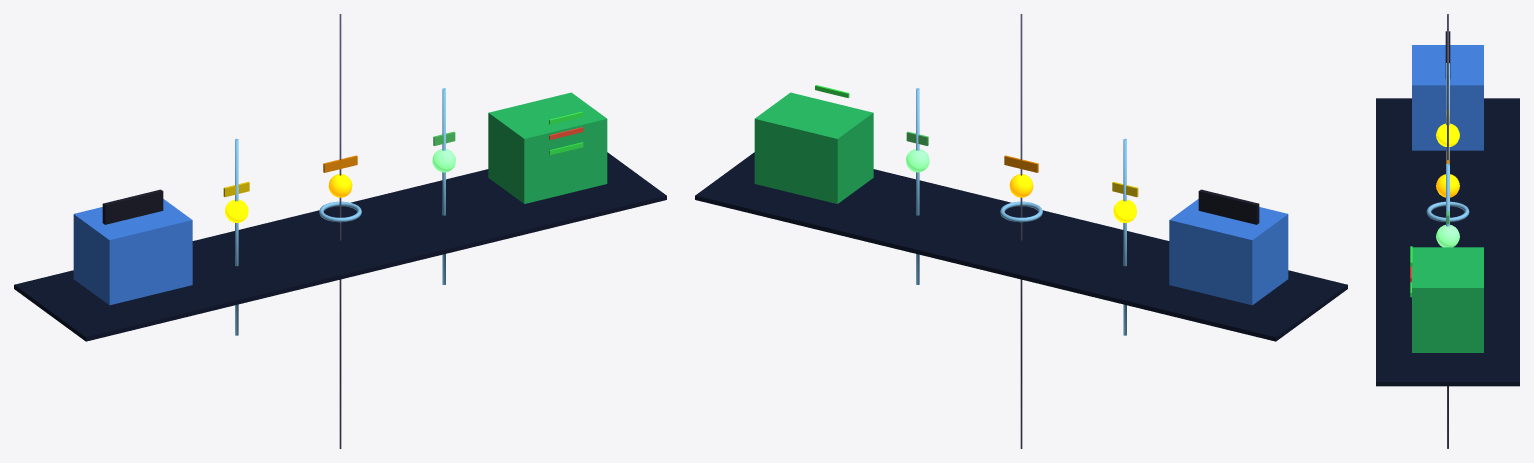
The model's file is handshake_blinded.glb.
The picture shows the model from 3 angles, left to right: view 1: azimuth 30°, elevation 25°; view 2: azimuth 150°, elevation 25°; view 3: azimuth 270°, elevation 25°; orthographic projection.
Visible parts, largest first — view 1: Platform, Servidor, Cliente, ClientScreen, Cable; view 2: Platform, Servidor, Cliente, ClientScreen, Cable; view 3: Platform, Servidor, Cliente, ACK, EstablishedRing, Cable, SYN, SYNACK, EstablishedRight, ClientScreen, EstablishedLeft.
Part boxes in pixels (x1=…): Platform: x1=14, y1=152, x2=666, y2=341; Servidor: x1=488, y1=92, x2=607, y2=203; Cliente: x1=73, y1=199, x2=192, y2=305; ClientScreen: x1=102, y1=189, x2=163, y2=224; Cable: x1=339, y1=14, x2=341, y2=448; Platform: x1=695, y1=152, x2=1347, y2=341; Servidor: x1=754, y1=92, x2=873, y2=203; Cliente: x1=1169, y1=199, x2=1288, y2=305; ClientScreen: x1=1198, y1=189, x2=1259, y2=224; Cable: x1=1020, y1=14, x2=1022, y2=448; Platform: x1=1376, y1=98, x2=1519, y2=386; Servidor: x1=1412, y1=247, x2=1483, y2=352; Cliente: x1=1412, y1=45, x2=1483, y2=150; ACK: x1=1436, y1=225, x2=1459, y2=247; EstablishedRing: x1=1426, y1=201, x2=1469, y2=222; Cable: x1=1447, y1=14, x2=1448, y2=448; SYN: x1=1436, y1=123, x2=1459, y2=146; SYNACK: x1=1436, y1=174, x2=1459, y2=197; EstablishedRight: x1=1446, y1=164, x2=1449, y2=226; ClientScreen: x1=1445, y1=31, x2=1450, y2=78; EstablishedLeft: x1=1446, y1=63, x2=1449, y2=164.
Bounding box in the file's own units: 14 × 10 × 3.
